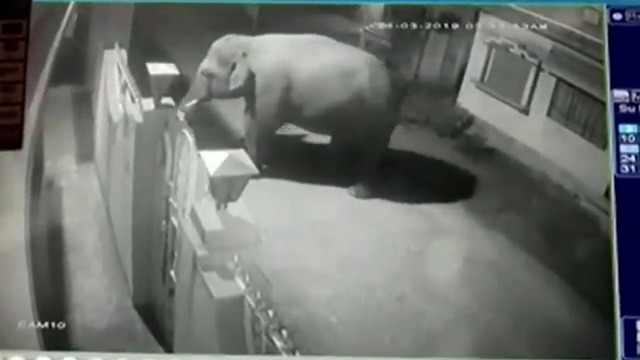Elephant: (178, 34, 396, 200)
